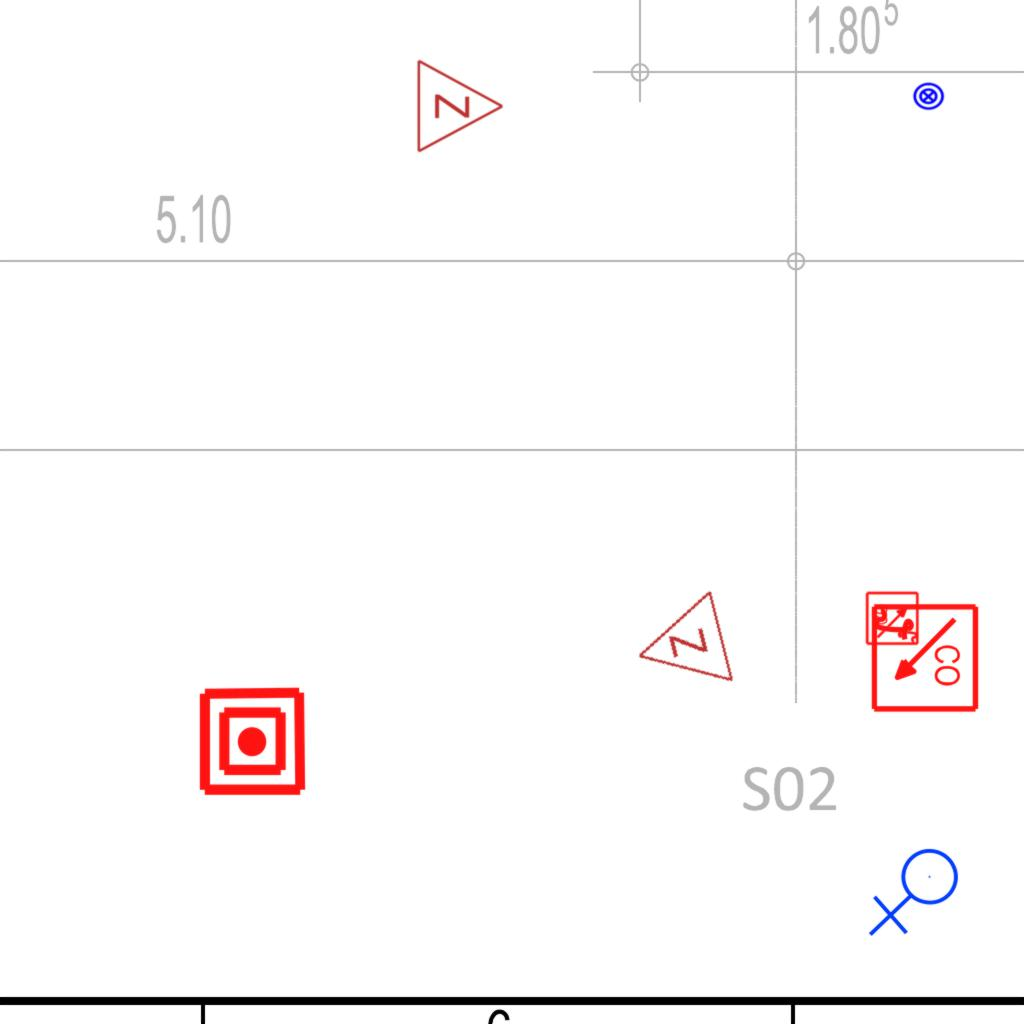Elektroanschluss_allgemein_230V_Geraeteanschlussdose_230V: (868, 847, 967, 941)
NAM-Nichtautomatischer_Melder: (196, 685, 309, 798)
ROA_Rauchmelder_optisch_mit_Signalgeber_(Sockelsirene): (867, 602, 980, 715), (865, 590, 921, 646)
Taster_beleuchtet: (912, 80, 945, 113)
Zimmersignalleuchte: (620, 587, 742, 707), (410, 56, 510, 154)
